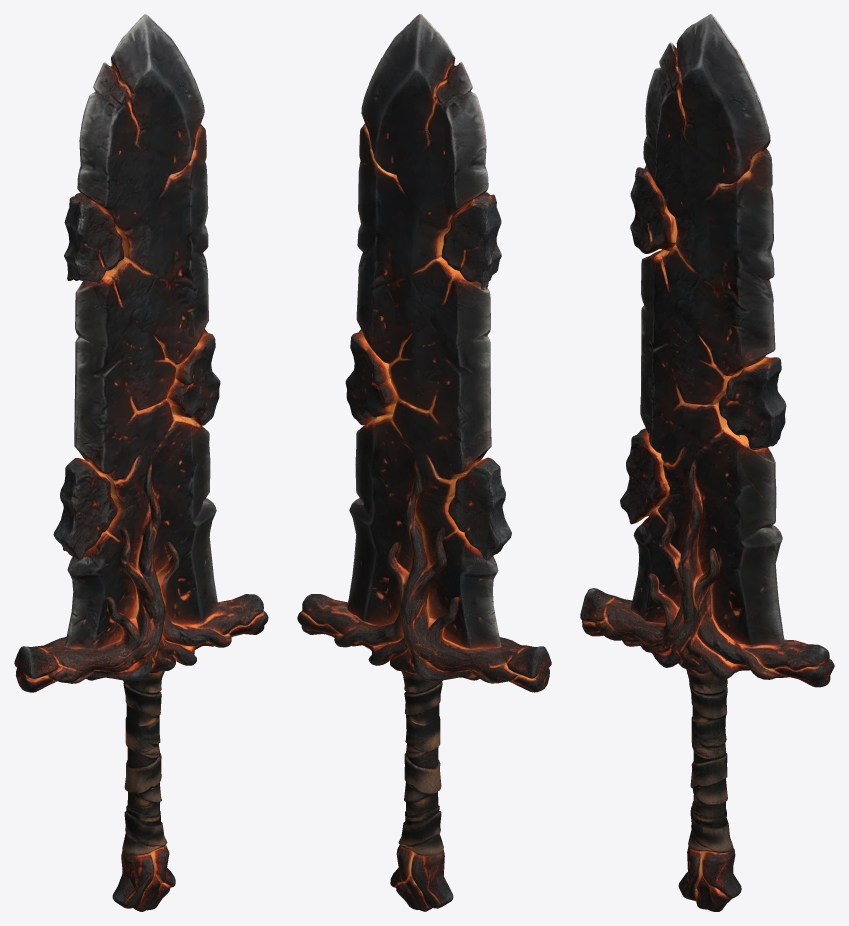
3 views of the same model, side by side, from view 1: azimuth 30°, elevation 25°; view 2: azimuth 150°, elevation 25°; view 3: azimuth 330°, elevation 25° (orthographic).
Visible parts, largest first — view 1: mesh_node; view 2: mesh_node; view 3: mesh_node.
Part boxes in pixels (left/top/right/bottom): mesh_node: left=14, top=14, right=268, bottom=911; mesh_node: left=297, top=14, right=551, bottom=911; mesh_node: left=580, top=14, right=834, bottom=911.
Size of the model in its own units: 0.5427 by 1.9 by 0.1699.
Materials: 1 (1 with a texture image).
